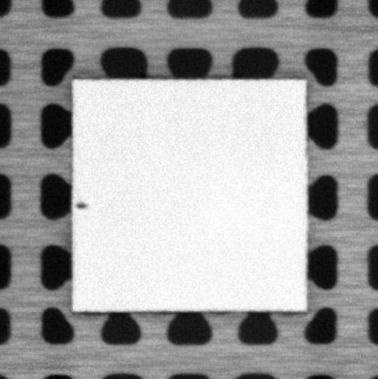DIE_INK: (75, 200, 88, 210)
